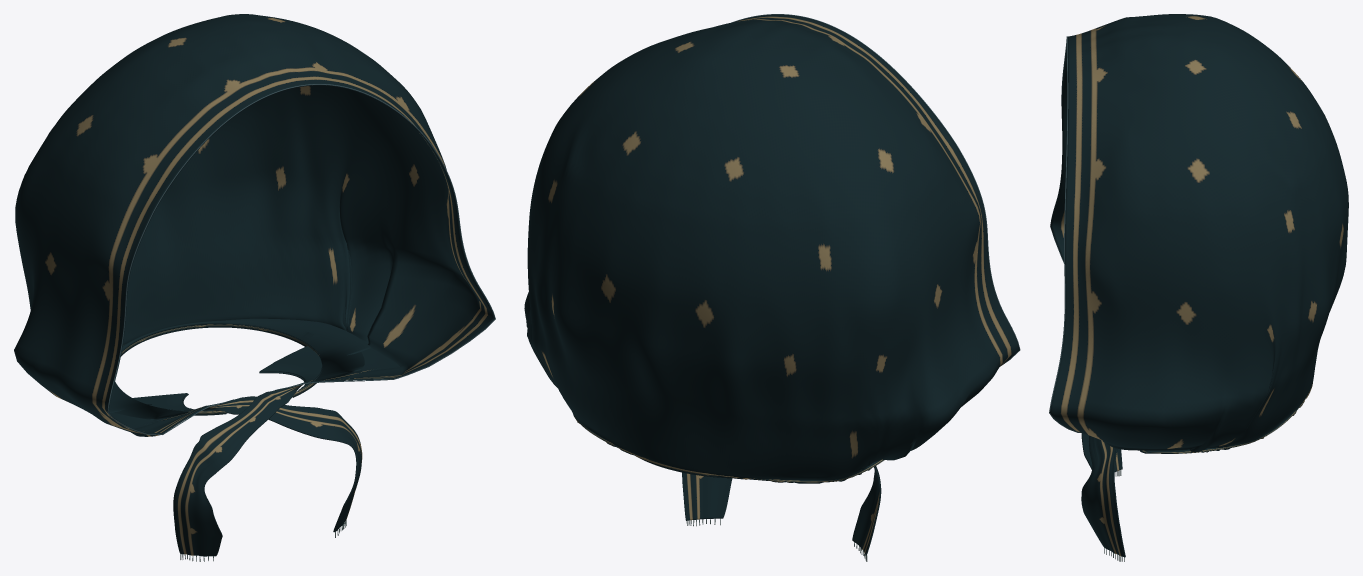
Rendered from Feminine-side-sweep-tshirt-pashmina249-headgear.glb.
The picture shows the model from 3 angles, left to right: view 1: azimuth 30°, elevation 25°; view 2: azimuth 150°, elevation 25°; view 3: azimuth 270°, elevation 25°; orthographic projection. The views are drawn at different scales.
Parts seen in each view (by area): view 1: 226 headgear / Headwear / continuous woven pashmina239, 226 headgear / Headwear / face edge239; view 2: 226 headgear / Headwear / continuous woven pashmina239, 226 headgear / Headwear / face edge239; view 3: 226 headgear / Headwear / continuous woven pashmina239, 226 headgear / Headwear / face edge239.
Boxes of the visible parts, x1,y1,x2,y2 form: 226 headgear / Headwear / continuous woven pashmina239: (14,14,494,556); 226 headgear / Headwear / face edge239: (107,84,495,434); 226 headgear / Headwear / continuous woven pashmina239: (524,14,1019,555); 226 headgear / Headwear / face edge239: (731,14,1020,365); 226 headgear / Headwear / continuous woven pashmina239: (1050,14,1348,557); 226 headgear / Headwear / face edge239: (1049,36,1080,432).
Bounding box in the file's own units: 1.23 × 1.41 × 0.7781.
3 materials, 1 textured.
